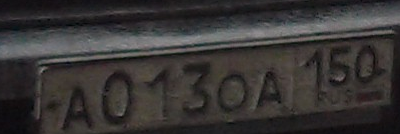character: (101, 66, 137, 125), (180, 59, 215, 116), (61, 84, 97, 134), (147, 65, 175, 122), (217, 71, 250, 115), (255, 66, 286, 110), (354, 43, 379, 88), (302, 45, 324, 95), (328, 45, 353, 88)
